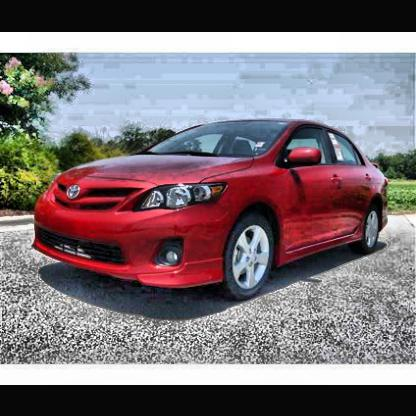Toyota Corolla Sedan 2012: (34, 118, 389, 300)
